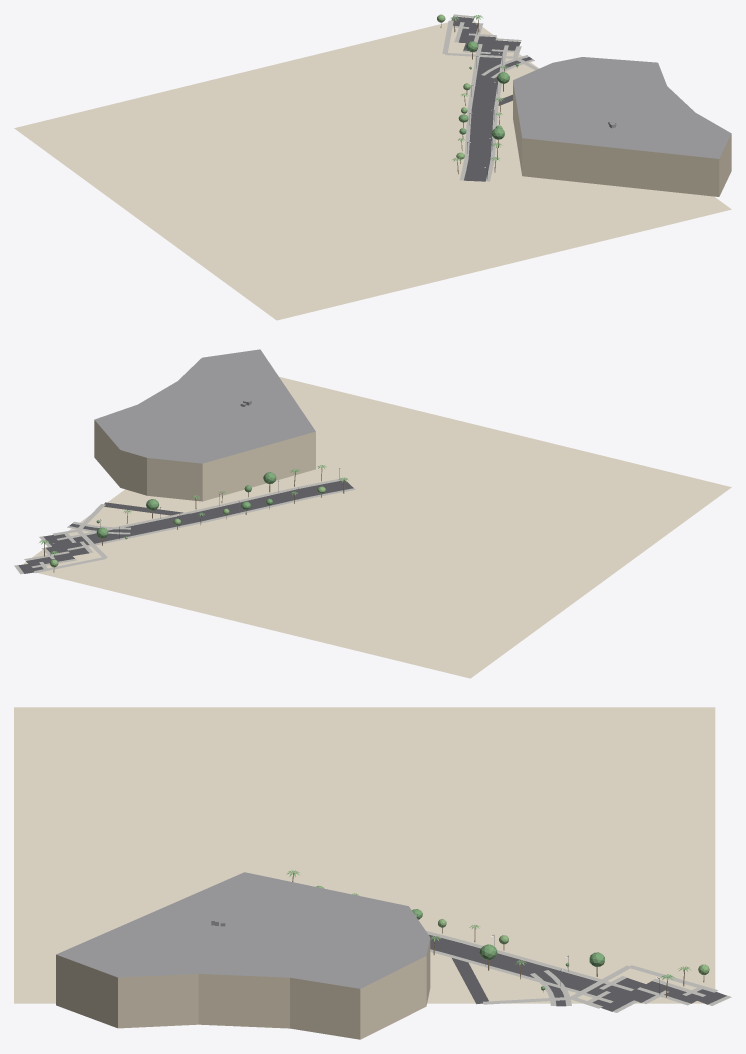
Rendered from tile_-6_6.glb.
The picture shows the model from 3 angles, top to bottom: view 1: azimuth 30°, elevation 25°; view 2: azimuth 150°, elevation 25°; view 3: azimuth 270°, elevation 25°; orthographic projection. The views are drawn at different scales.
Parts seen in each view (by area): view 1: nature_ground, buildings_roof, buildings_sandstone, roads_asphalt, roads_sidewalk, nature_foliage_a; view 2: nature_ground, buildings_roof, buildings_sandstone, roads_asphalt, roads_sidewalk, nature_foliage_a; view 3: nature_ground, buildings_roof, buildings_sandstone, roads_asphalt, roads_sidewalk.
Boxes of the visible parts, box(x1,y1,x2,y2) form: nature_ground: box(14, 17, 731, 320); buildings_roof: box(513, 57, 731, 158); buildings_sandstone: box(513, 82, 731, 196); roads_asphalt: box(451, 16, 532, 181); roads_sidewalk: box(442, 14, 538, 181); nature_foliage_a: box(458, 41, 518, 139); nature_ground: box(23, 377, 731, 678); buildings_roof: box(94, 349, 315, 463); buildings_sandstone: box(94, 420, 315, 501); roads_asphalt: box(18, 480, 353, 573); roads_sidewalk: box(14, 478, 355, 574); nature_foliage_a: box(96, 472, 276, 538); nature_ground: box(14, 707, 715, 1003); buildings_roof: box(56, 872, 430, 988); buildings_sandstone: box(56, 938, 430, 1039); roads_asphalt: box(429, 934, 726, 1011); roads_sidewalk: box(426, 931, 731, 1012).
Size of the model in its own units: 281 by 21.76 by 256.
